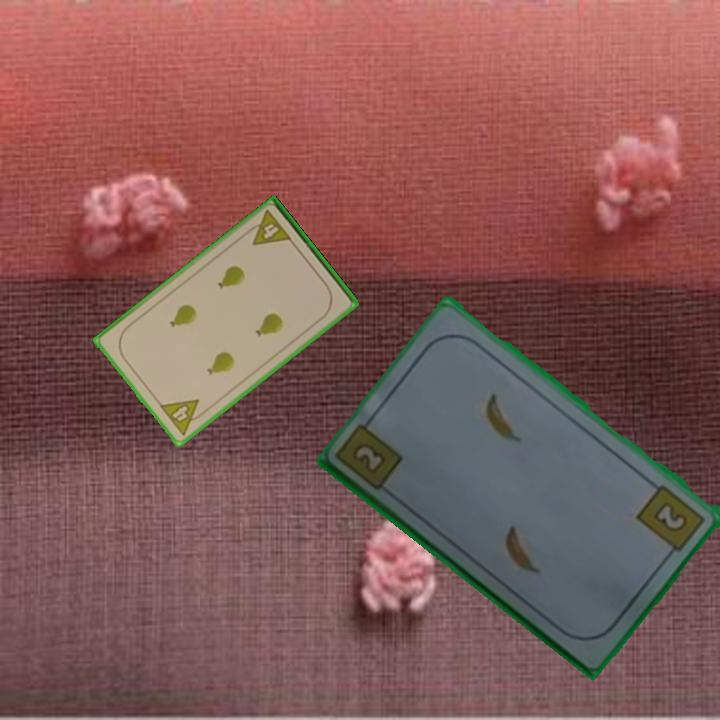2b: (633, 481, 709, 559), (352, 442, 390, 477)
4p: (156, 396, 210, 439), (242, 207, 295, 249)
